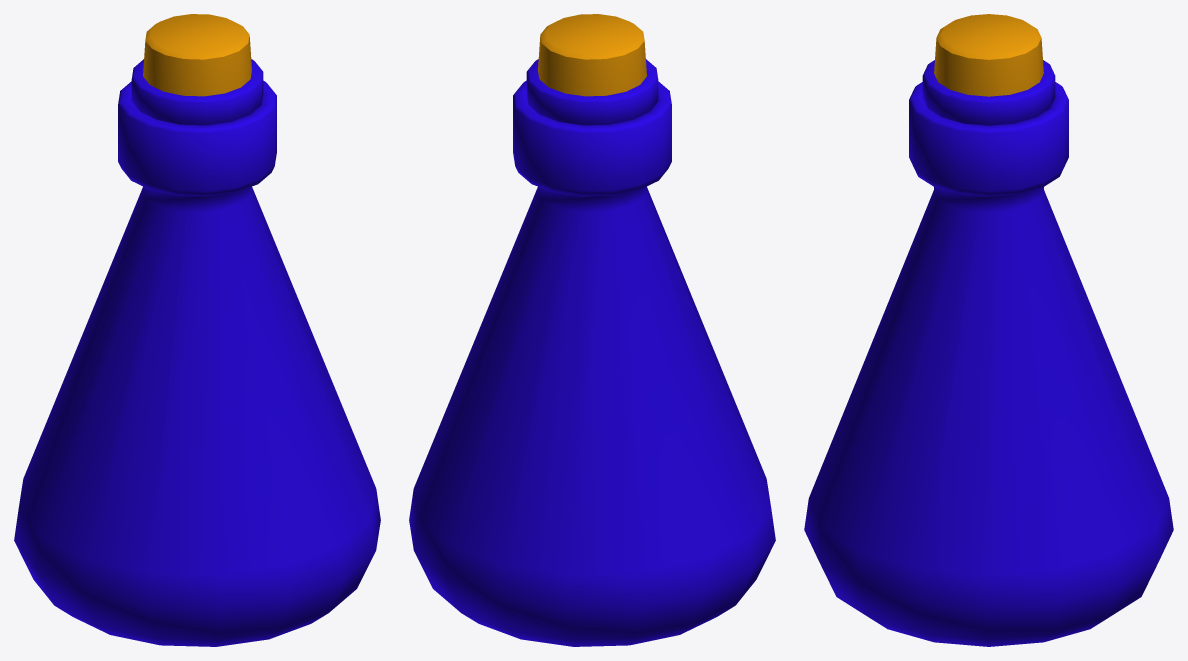
Rendered from MaxPotion.fbx.
3 renders of one model, left to right at view 1: azimuth 30°, elevation 25°; view 2: azimuth 150°, elevation 25°; view 3: azimuth 270°, elevation 25°, orthographic.
Parts seen in each view (by area): view 1: Glass, Cork; view 2: Glass, Cork; view 3: Glass, Cork.
Part boxes in pixels (bbox=[...]): Glass: bbox=[14, 59, 380, 646]; Cork: bbox=[143, 14, 251, 96]; Glass: bbox=[409, 59, 775, 646]; Cork: bbox=[538, 14, 646, 96]; Glass: bbox=[804, 60, 1173, 646]; Cork: bbox=[934, 14, 1043, 96].
Size of the model in its own units: 10.41 by 17.55 by 10.41.
